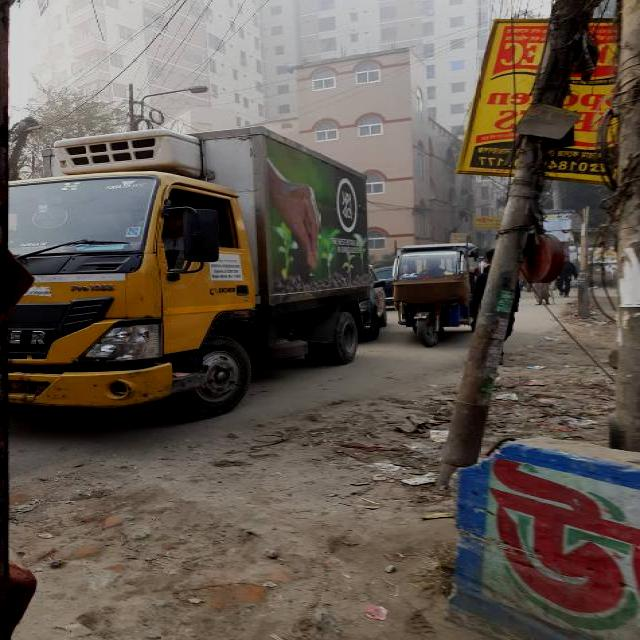TRUCK: (1, 121, 390, 420)
